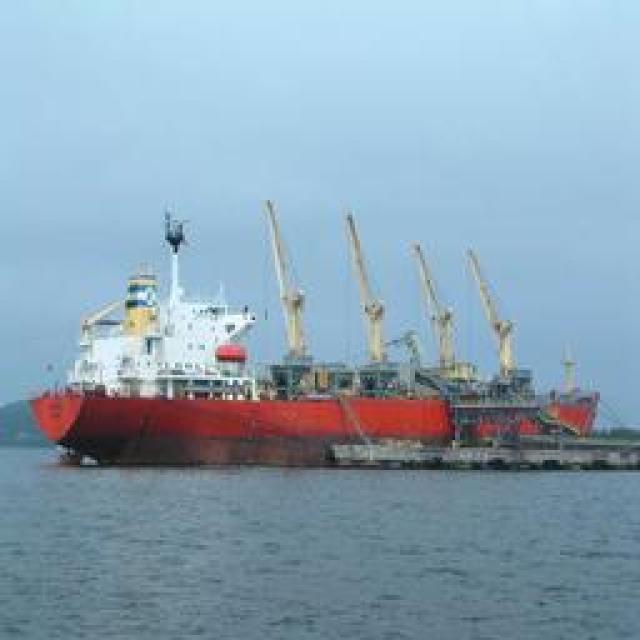ship2: (28, 199, 606, 468)
